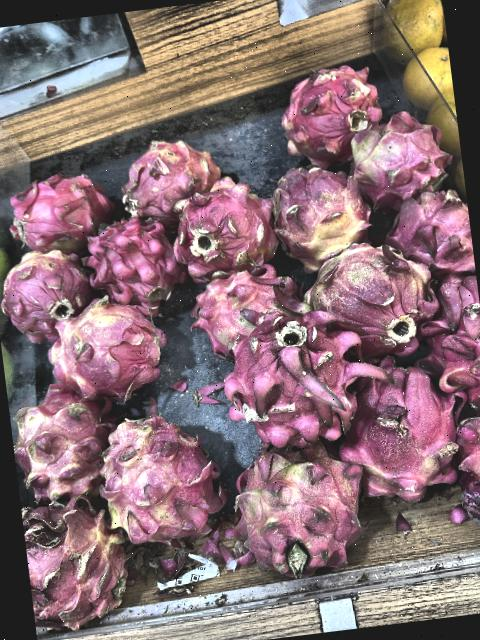buah-naga-belum-matang: (221, 430, 380, 570), (88, 399, 224, 552), (299, 234, 440, 362), (20, 486, 138, 618), (47, 294, 176, 404), (7, 382, 115, 502), (264, 156, 376, 265), (187, 260, 306, 344), (346, 117, 444, 216), (112, 131, 222, 209), (0, 245, 88, 327)
buah-naga-matang: (209, 302, 370, 450), (342, 348, 461, 510), (84, 215, 187, 316), (271, 63, 381, 157), (176, 178, 282, 270), (422, 253, 480, 414), (1, 174, 113, 244), (450, 401, 480, 530)
